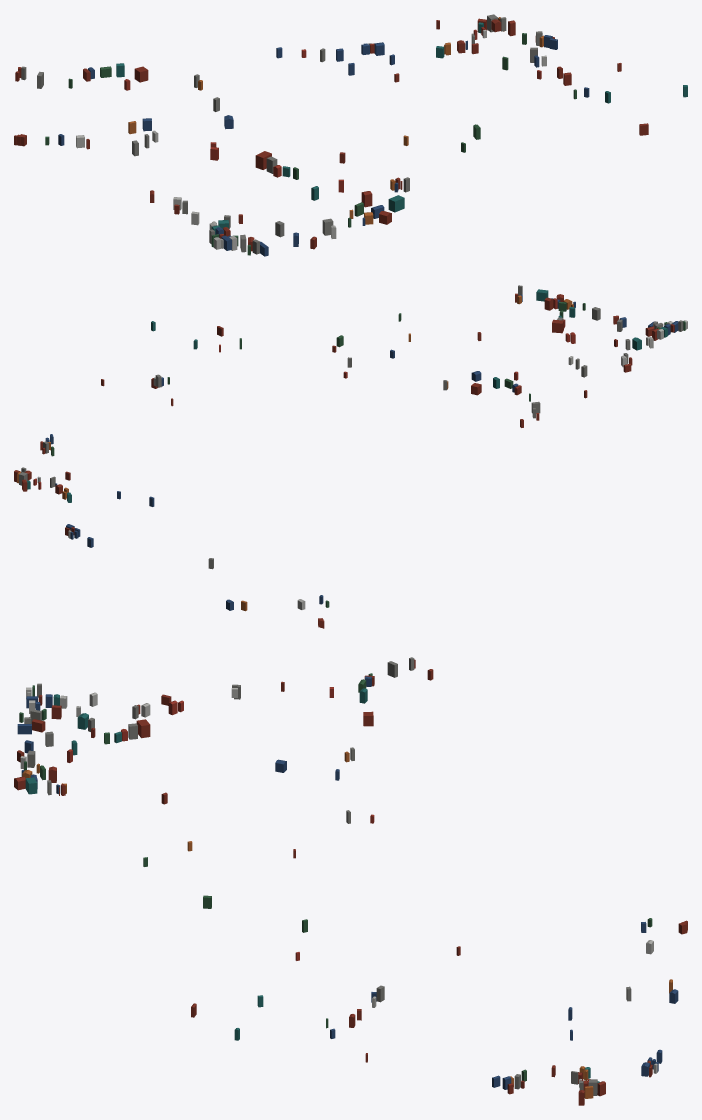
The model's file is near-15-27358-14863.3243ead3.glb.
The picture shows the model from 3 angles, top to bottom: view 1: azimuth 30°, elevation 25°; view 2: azimuth 150°, elevation 25°; view 3: azimuth 270°, elevation 25°; orthographic projection. The views are drawn at different scales.
Bounding box in the file's own units: 1174 × 431 × 1175.
